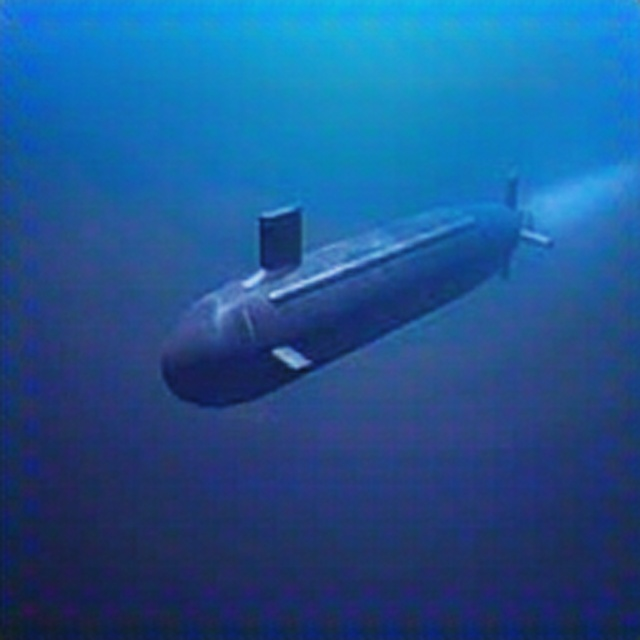submarine: (152, 160, 571, 429)
